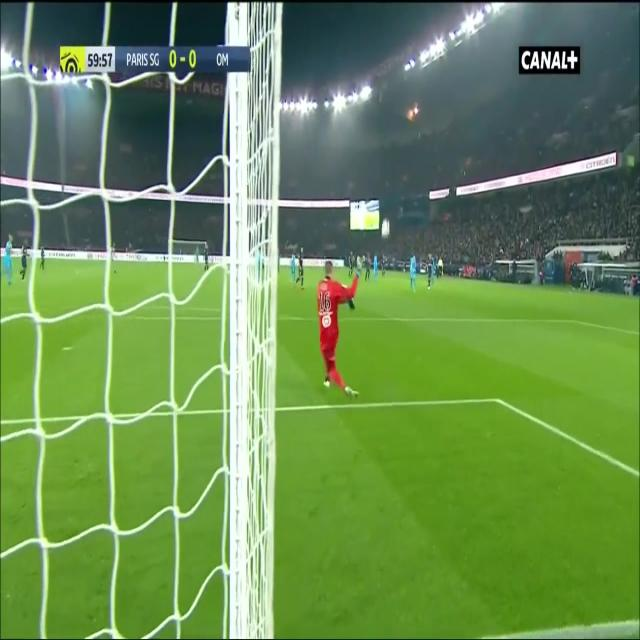Ball: (379, 216, 392, 242)
Goalkeeper: (313, 256, 365, 401)
Player: (2, 233, 18, 290), (19, 239, 32, 283), (407, 254, 419, 295), (295, 248, 306, 291), (423, 254, 432, 292), (362, 251, 372, 284), (289, 248, 296, 289), (39, 244, 48, 275), (347, 250, 356, 278), (371, 255, 381, 279), (202, 245, 210, 274)
